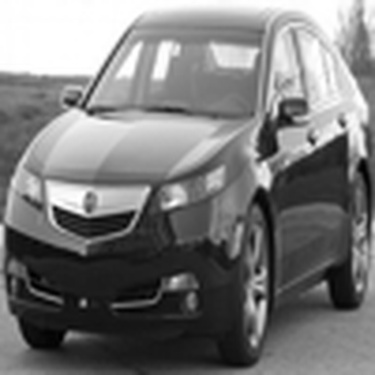car: (1, 15, 373, 373)
